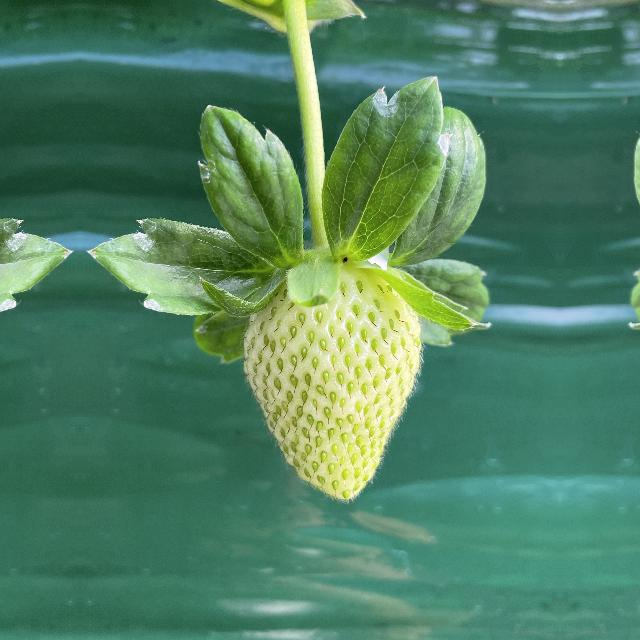Health_25: (244, 261, 432, 511)
